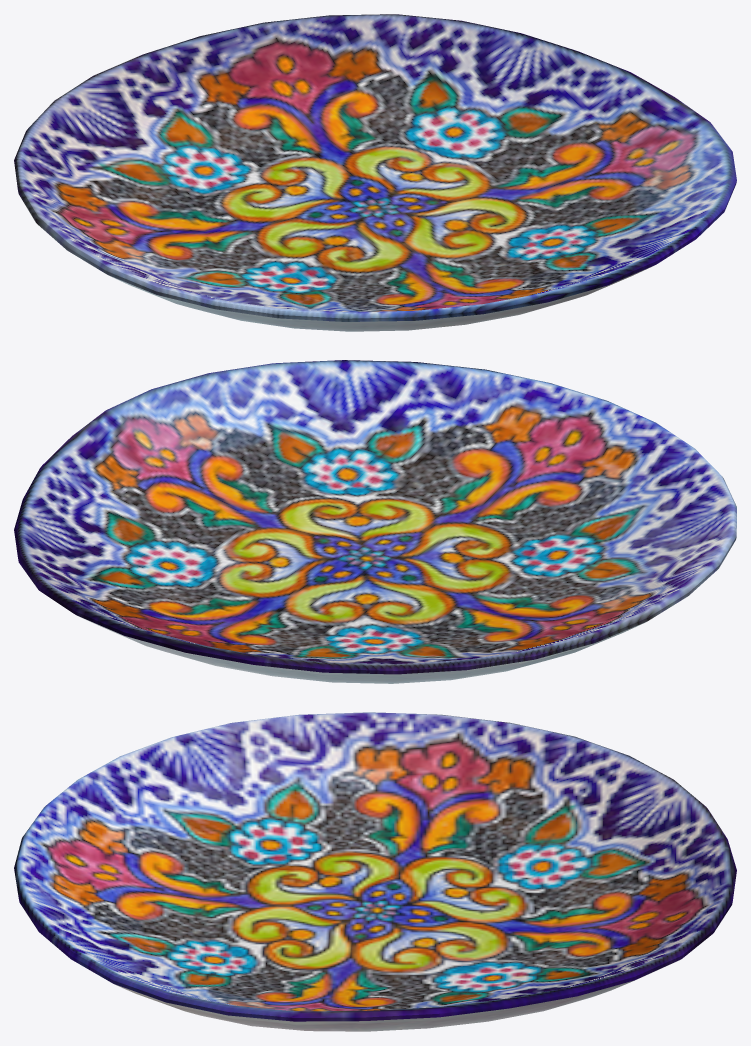
The model's file is plate_low.obj.
3 views of the same model, one above another, from view 1: azimuth 30°, elevation 25°; view 2: azimuth 150°, elevation 25°; view 3: azimuth 270°, elevation 25° (orthographic). The views are drawn at different scales.
Parts seen in each view (by area): view 1: plate2; view 2: plate2; view 3: plate2.
Part boxes in pixels (bbox=[...]): plate2: bbox=[14, 14, 736, 331]; plate2: bbox=[14, 360, 736, 683]; plate2: bbox=[14, 712, 736, 1031].
Size of the model in its own units: 0.2895 by 0.0296 by 0.2914.
1 material, 1 textured.
